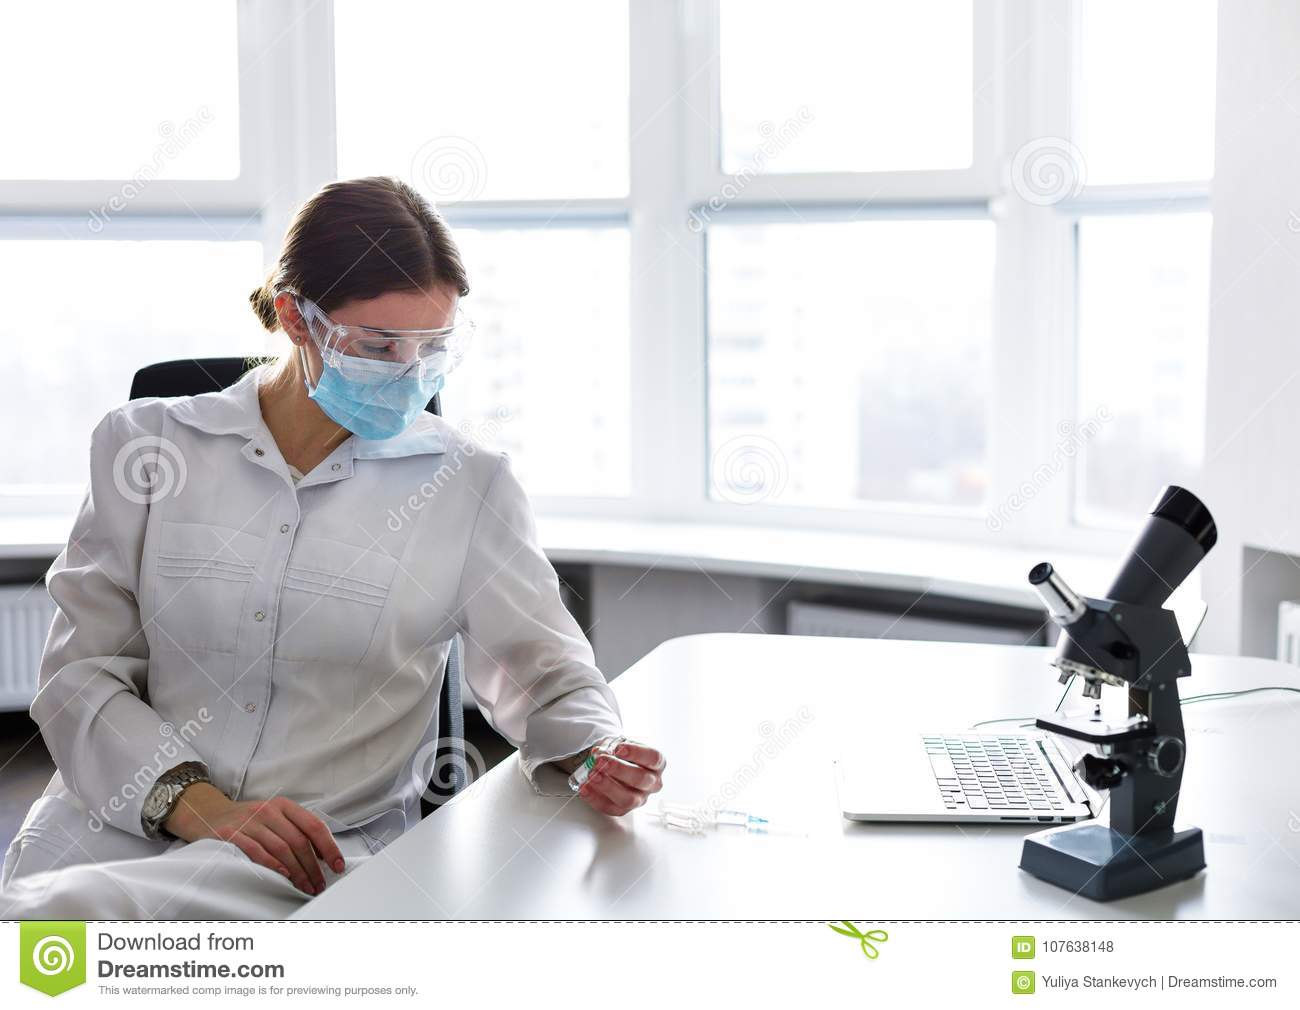mask: (316, 350, 459, 456)
